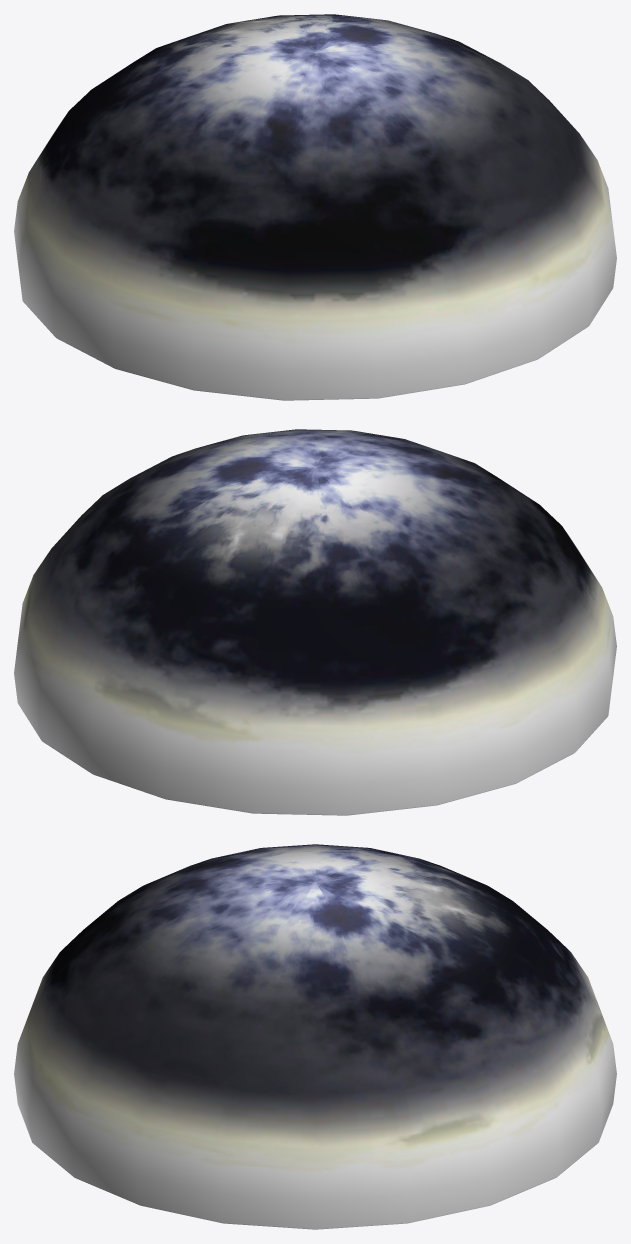
Rendered from just skybox.obj.
3 renders of one model, top to bottom at view 1: azimuth 30°, elevation 25°; view 2: azimuth 150°, elevation 25°; view 3: azimuth 270°, elevation 25°, orthographic.
Visible parts, largest first — view 1: VRFirst_CubeMap__m_VRFirst_CubeMap; view 2: VRFirst_CubeMap__m_VRFirst_CubeMap; view 3: VRFirst_CubeMap__m_VRFirst_CubeMap.
Boxes of the visible parts, <box> form: VRFirst_CubeMap__m_VRFirst_CubeMap: <box>14,14,616,400</box>; VRFirst_CubeMap__m_VRFirst_CubeMap: <box>14,429,616,815</box>; VRFirst_CubeMap__m_VRFirst_CubeMap: <box>14,844,616,1229</box>.
Bounding box in the file's own units: 100892 × 40836 × 100892.
